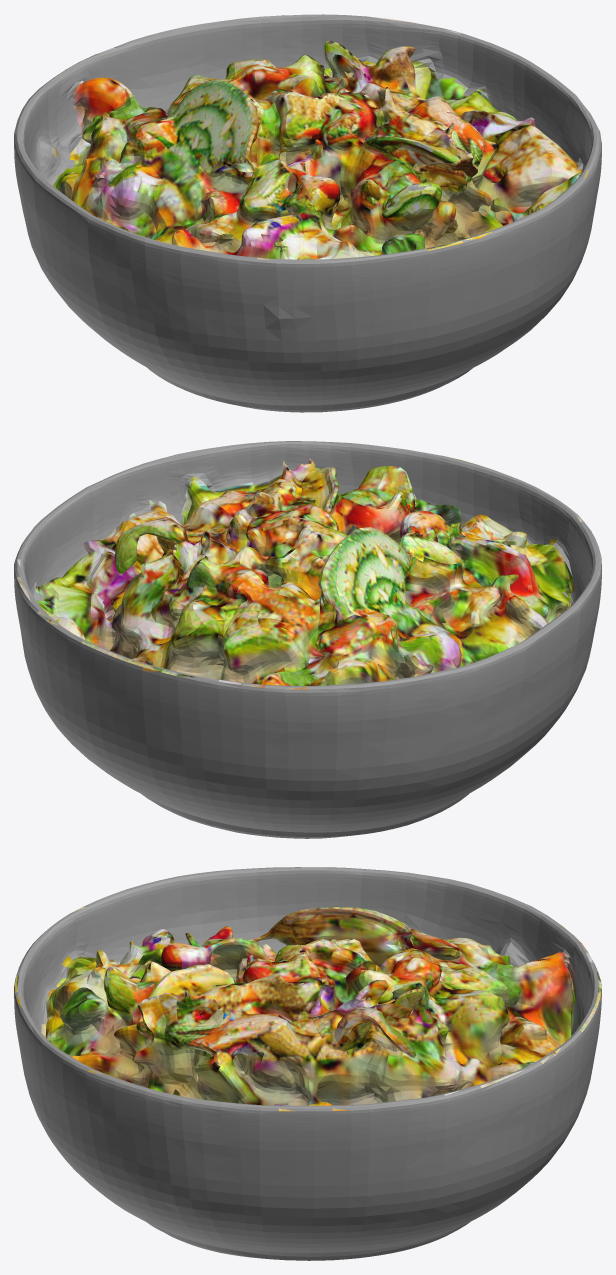
File: fattoush.fbx
The picture shows the model from 3 angles, top to bottom: view 1: azimuth 30°, elevation 25°; view 2: azimuth 150°, elevation 25°; view 3: azimuth 270°, elevation 25°; orthographic projection.
Parts seen in each view (by area): view 1: Mesh_0; view 2: Mesh_0; view 3: Mesh_0.
Boxes of the visible parts, x1,y1,x2,y2 form: Mesh_0: (14, 14, 601, 412); Mesh_0: (14, 441, 601, 838); Mesh_0: (14, 867, 601, 1260).
Bounding box in the file's own units: 97.84 × 47.81 × 100.
